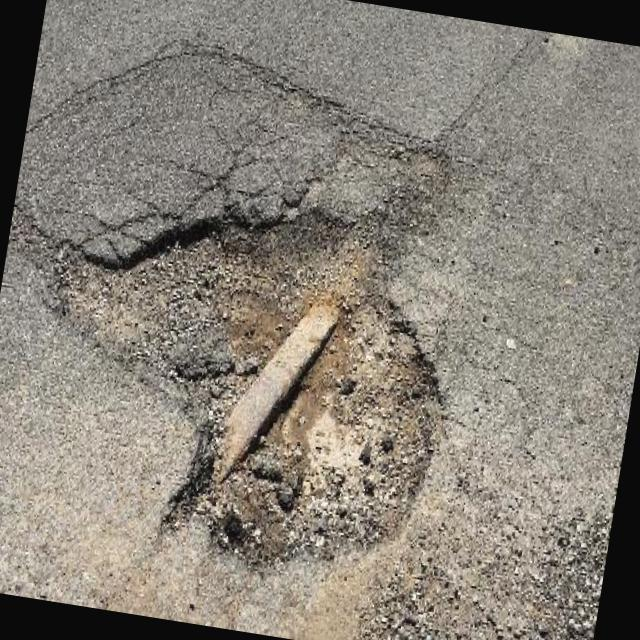Lubang: (61, 210, 439, 565)
